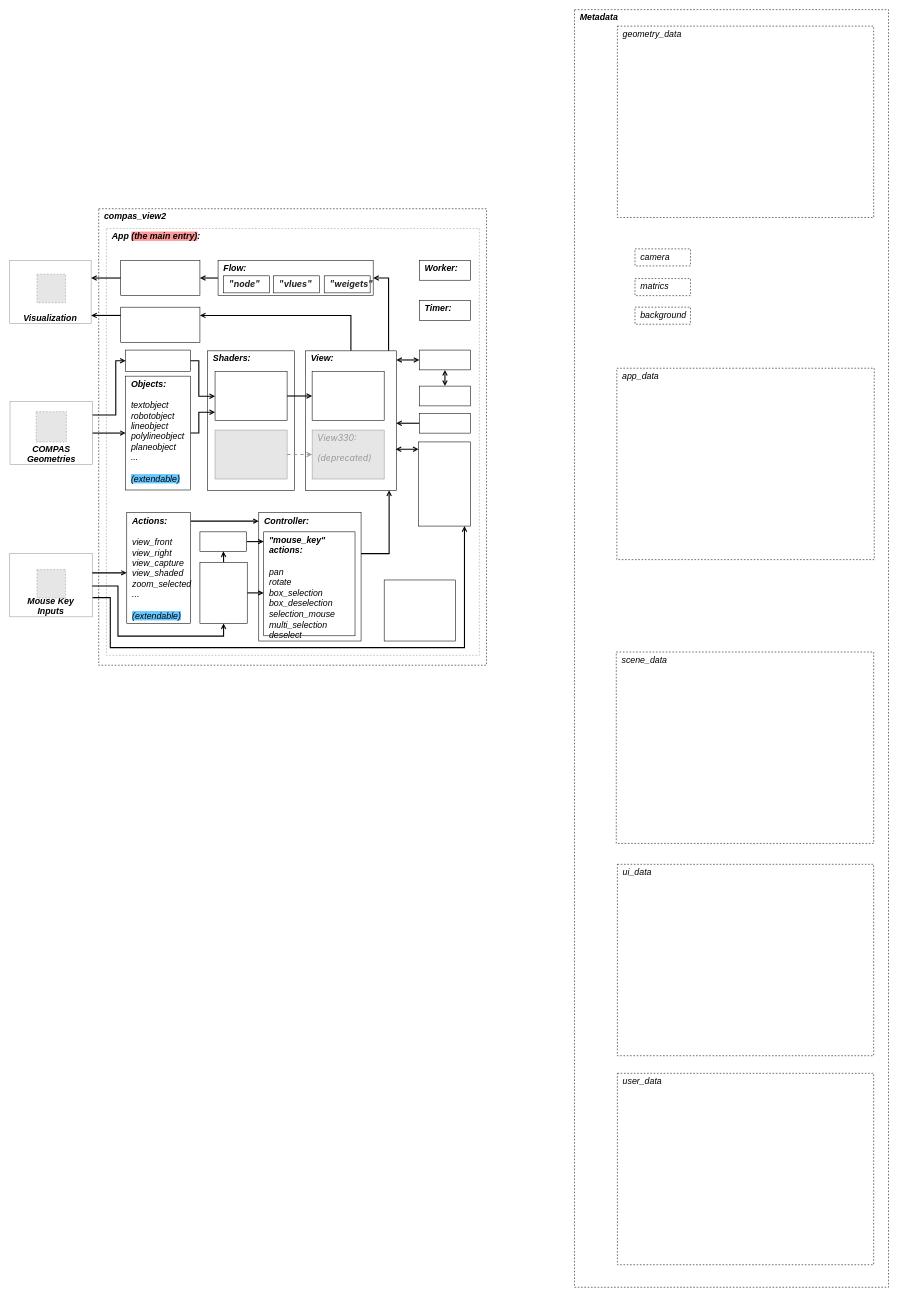
The diagram is 898 pixels wide and 1297 high, and some of its shapes have lost their labels. Grey dashed boxes stand in for pictures. Here are the shapes that lost their labels. From the top down, the centre of each, then its label:
[160,278]: Ryven Flow
[160,324]: Qt OpenGL Widget
[158,361]: Collection:
[445,360]: Camera:
[251,395]: v. 120: text.frag ...
[348,395]: View120: paint ...
[445,396]: Matrices:
[445,423]: Plot:
[251,454]: v. 330 (deprecated)
[444,483]: UI: select slider checklist radio button
[223,541]: Selector:
[223,592]: Mouse: pos buttons ...
[420,610]: "helpers": setting_assistant info ...
